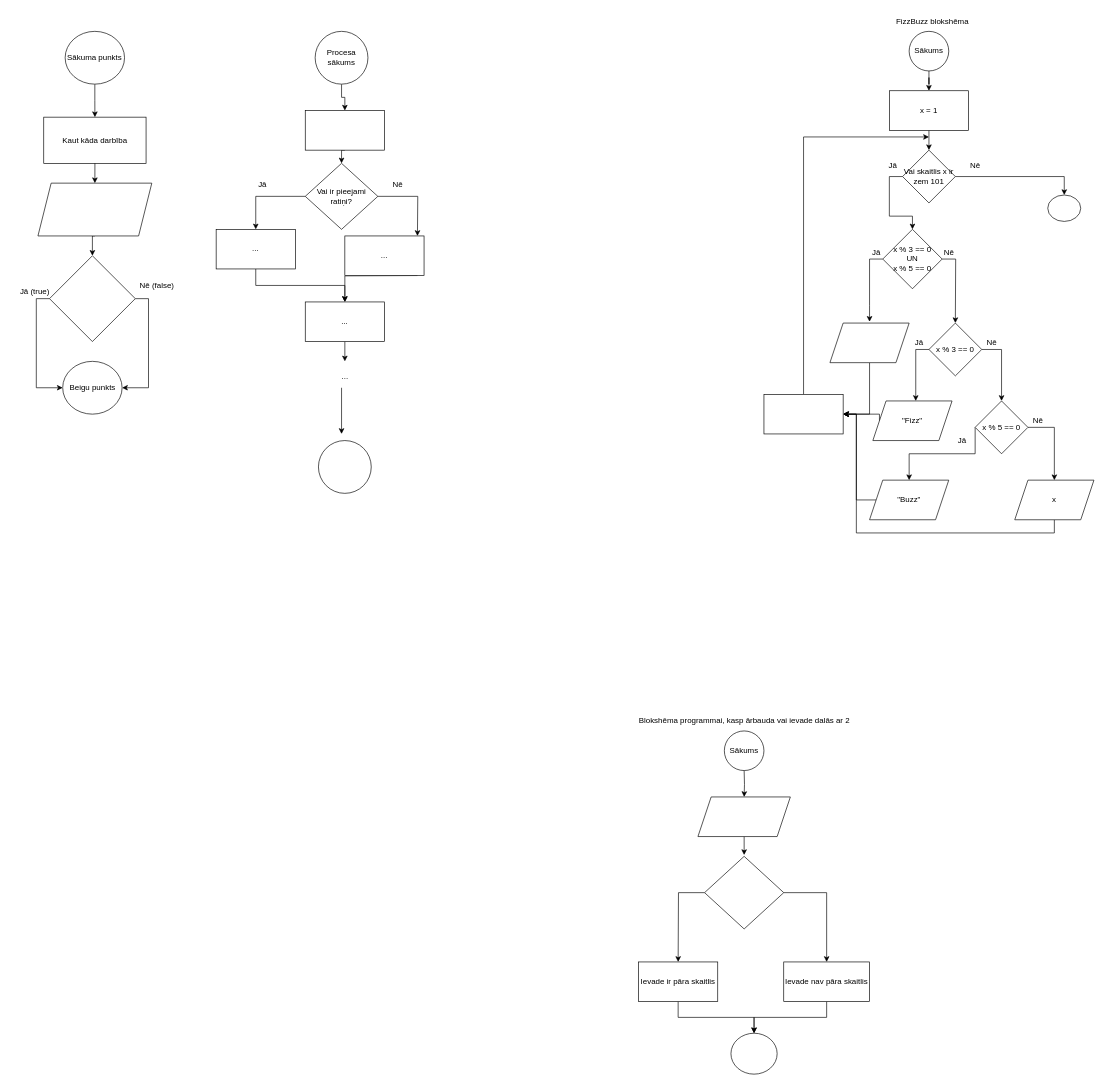
Some shapes in this 1106 by 1086 pixel diagram are drawn without their labels. Each missing label, with the centre of its shape:
"FizzBuzz": (x=869, y=342)
Beigas: (x=1064, y=207)
Dalot ar 2, vai atlikums ir 0: (x=744, y=892)
Ieeju veikalā: (x=344, y=130)
Ievade/Izvadei: (x=94, y=209)
if/else: (x=92, y=298)
Izeju no veikala: (x=344, y=466)
Lietotājs ievada skaitli: (x=743, y=816)
Programmas beigas: (x=753, y=1053)
x = x + 1: (x=803, y=414)
